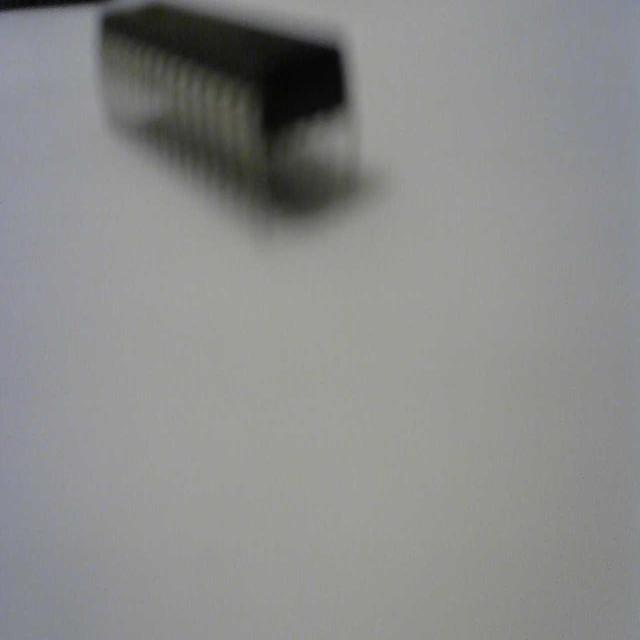atmega: (94, 2, 366, 217)
